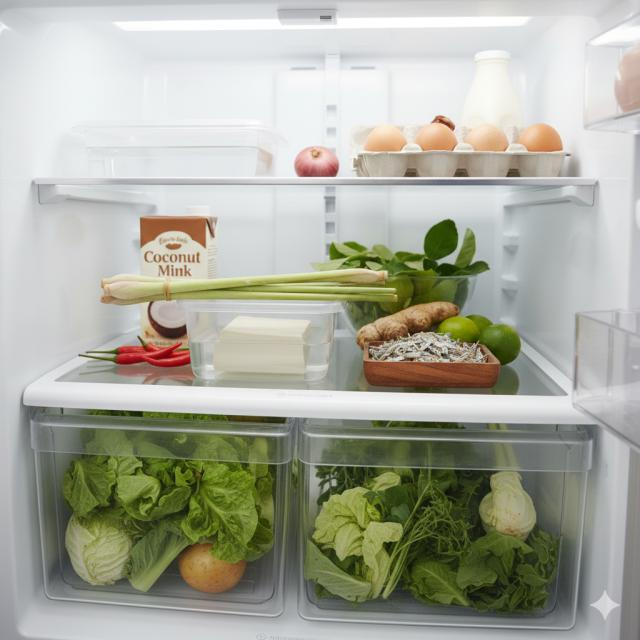anchovies: (369, 332, 490, 363)
cabbage: (65, 512, 133, 585)
chili: (80, 340, 190, 367)
egg: (352, 122, 572, 178)
ginger: (356, 301, 459, 350)
leafy_greens: (304, 440, 557, 612), (61, 432, 274, 594), (312, 219, 490, 332)
lemongrass: (101, 268, 401, 306)
lime: (437, 314, 522, 366)
onion: (295, 145, 338, 177)
potato: (179, 542, 247, 593)
tofu: (212, 313, 312, 374)
